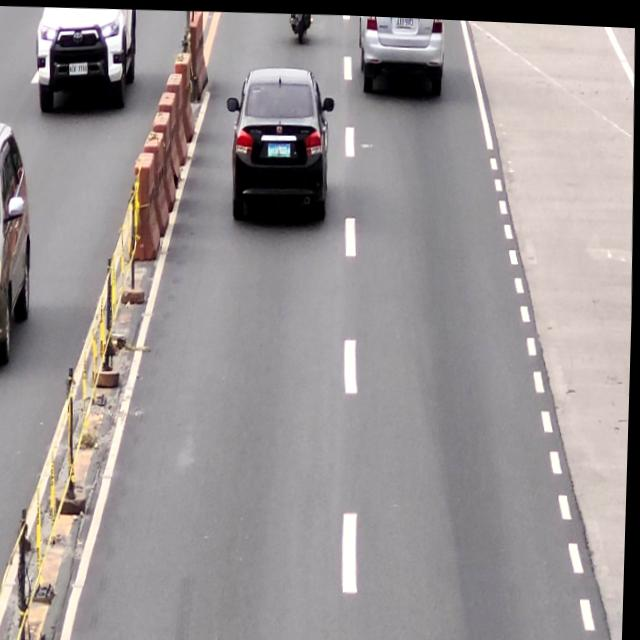Car: (224, 59, 337, 224), (356, 13, 447, 94)
License-Plate: (267, 139, 292, 157), (394, 14, 415, 24)
